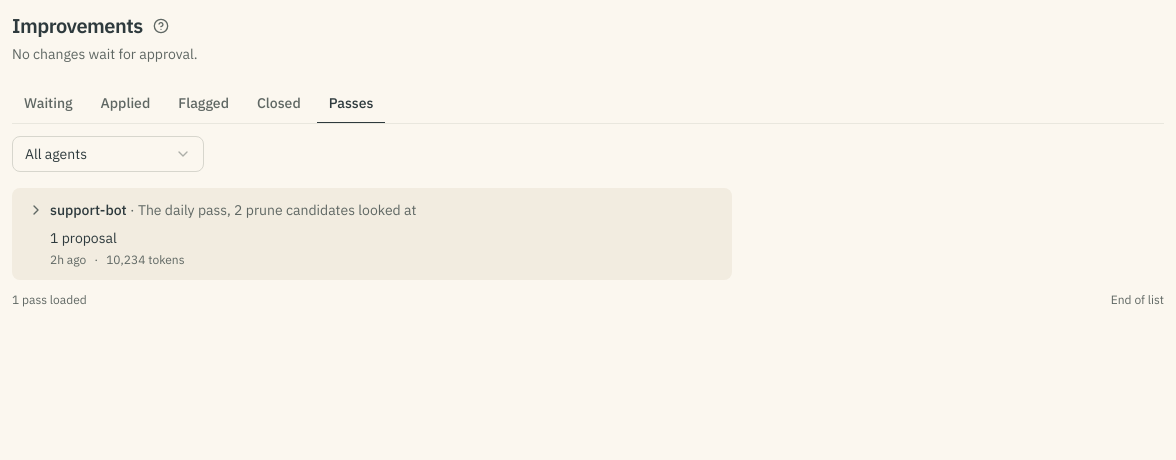
Test: a pass › marks each prune candidate as kept or proposed for removal
Click the button "support-bot · The daily pass, 2 prune candidates looked at" at coordinates (372, 210), box [24,200,720,220]
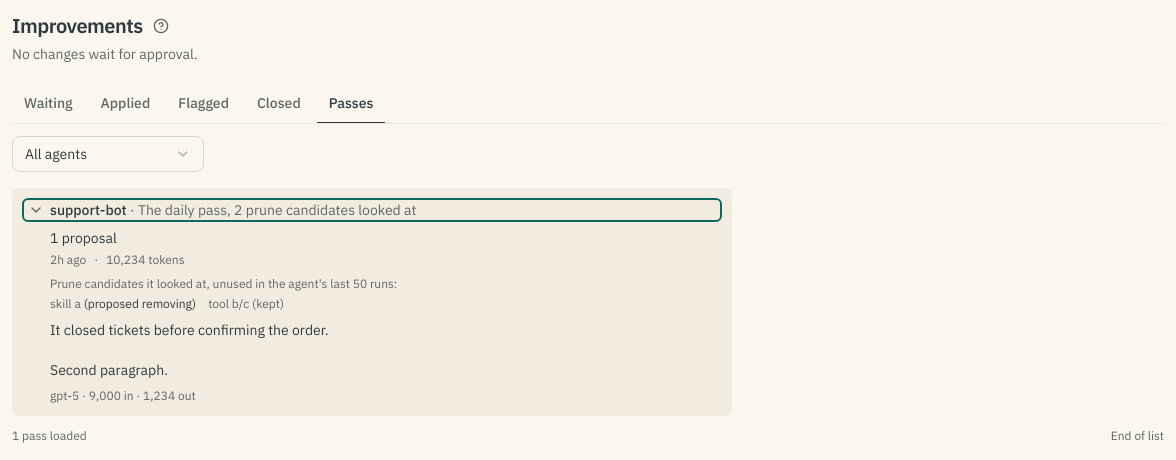
Expected: the list named "Prune candidates" shows "skill a (proposed removing)", [50,296,284,311]
Expected: the list named "Prune candidates" shows "tool b/c (kept)", [50,296,284,311]
